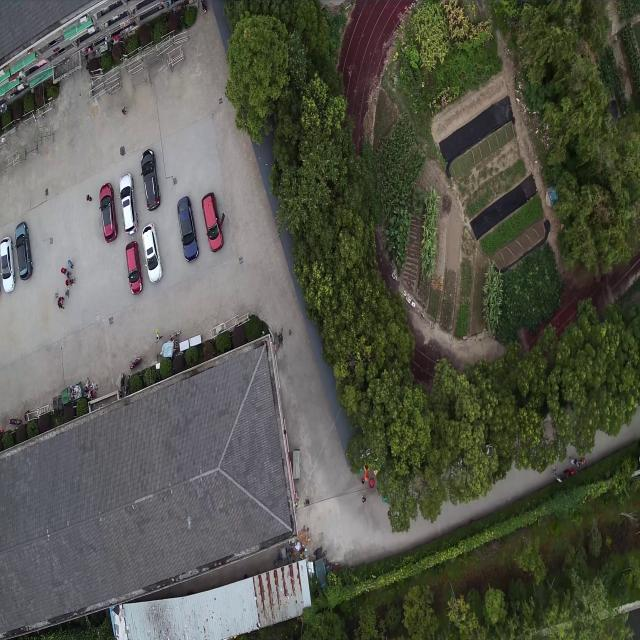UAV: (181, 514, 197, 533)
